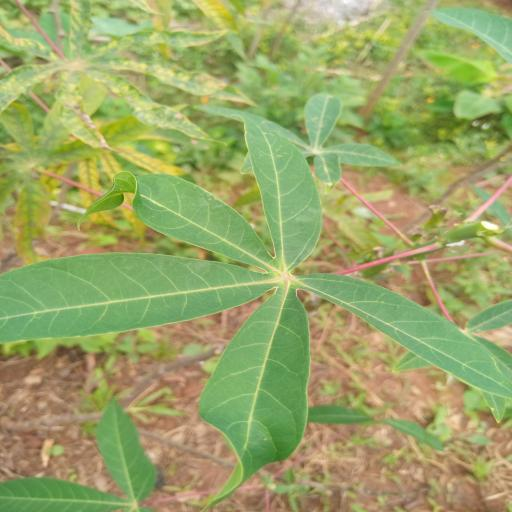Cassava_Healthy: (0, 109, 512, 508)
